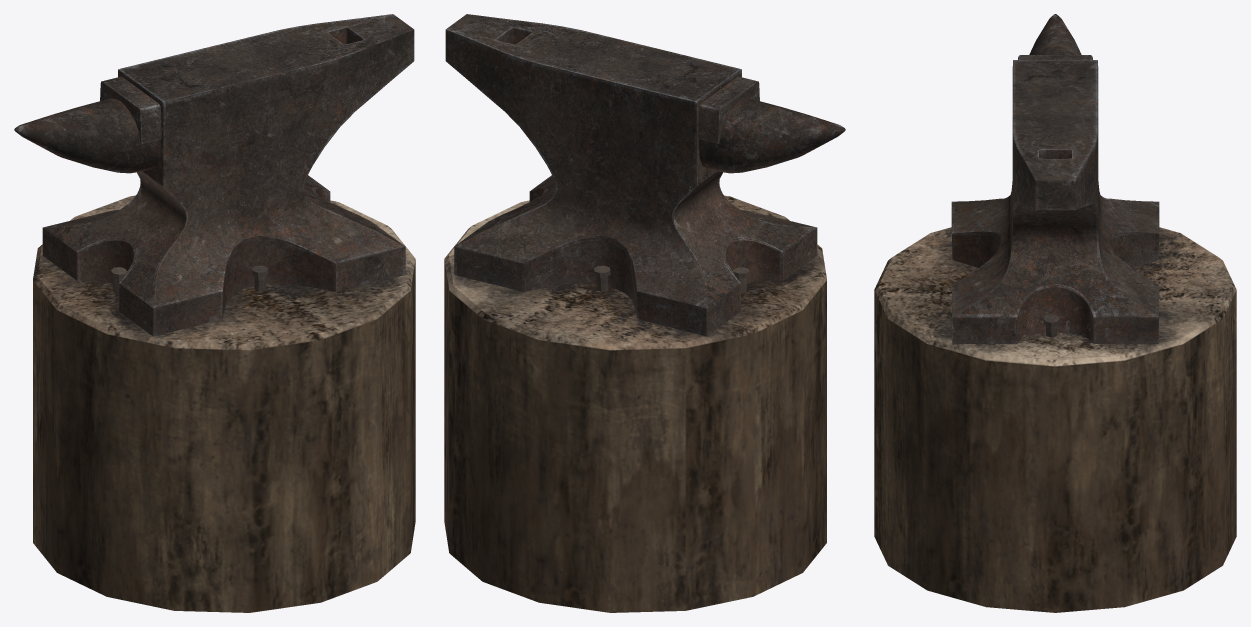
The model's file is anvil.obj.
The picture shows the model from 3 angles, left to right: view 1: azimuth 30°, elevation 25°; view 2: azimuth 150°, elevation 25°; view 3: azimuth 270°, elevation 25°; orthographic projection. The views are drawn at different scales.
Visible parts, largest first — view 1: Anvil__0; view 2: Anvil__0; view 3: Anvil__0.
Boxes of the visible parts, <box> form: Anvil__0: <box>14,14,415,612</box>; Anvil__0: <box>444,14,845,612</box>; Anvil__0: <box>874,14,1236,612</box>.
Size of the model in its own units: 0.8712 by 0.9976 by 0.7483.
